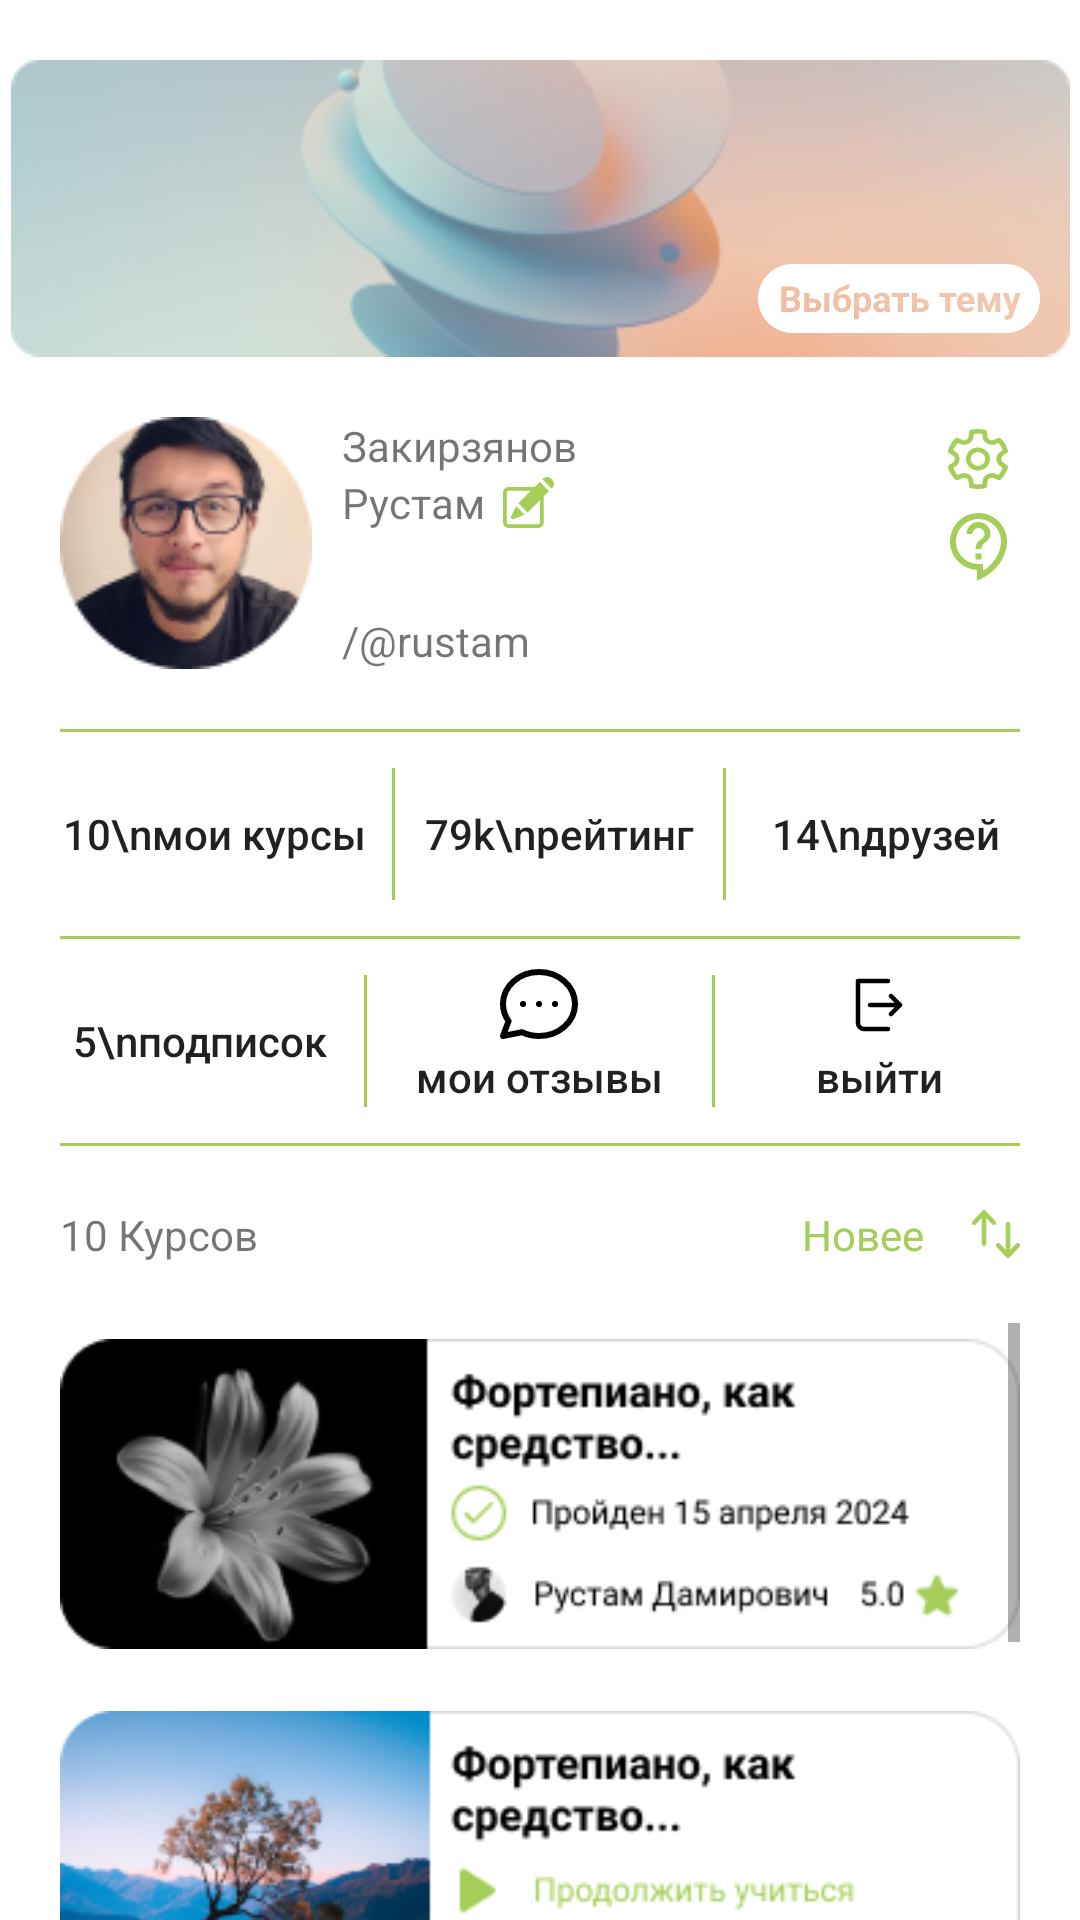

Icon bounding boxes for this 1080px×1920px phone screenshot, format box=[x1, y1, x2, y2]:
help: box=[950, 513, 1007, 581]
settings: box=[948, 429, 1008, 489]
